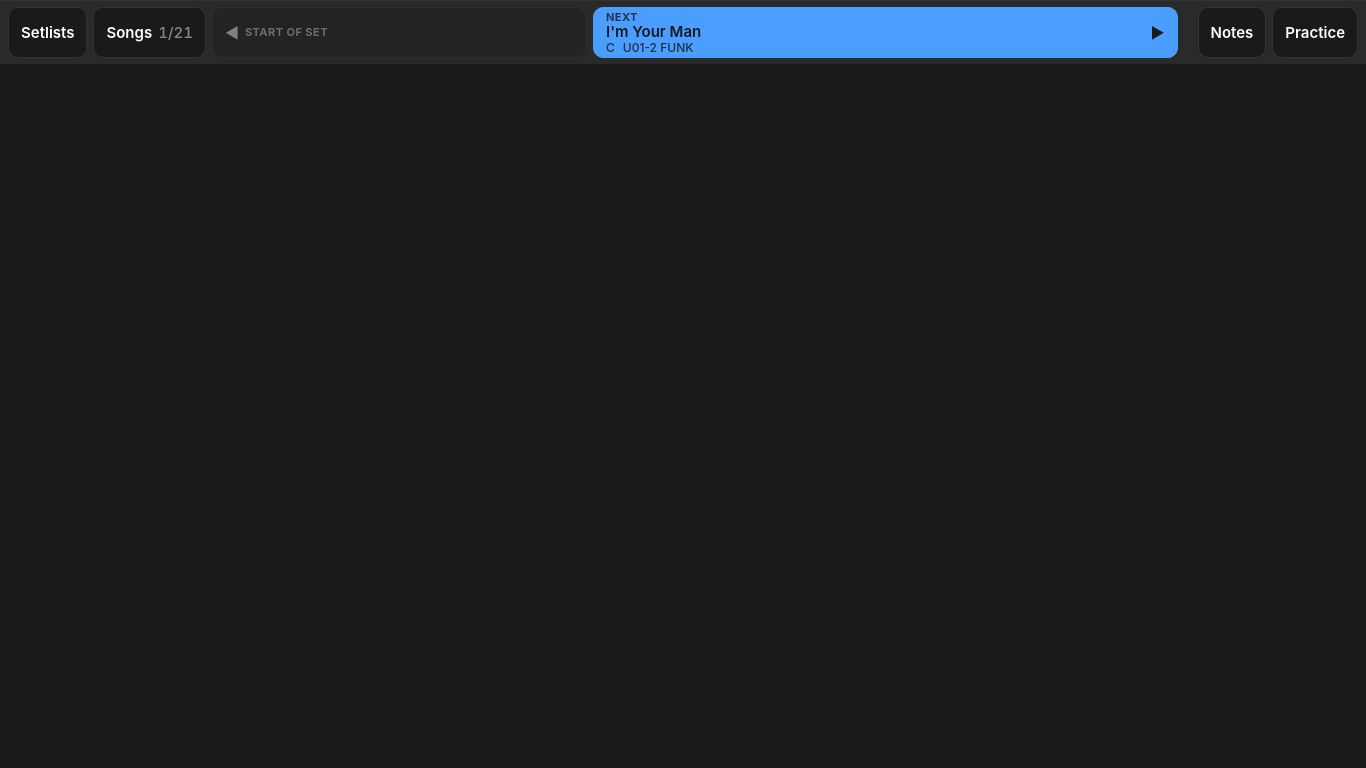
Test case: the Songs sheet › on Stage says a tap goes there and offers no editing
The image size is (1366, 768).
Click the button with aria-label "Songs, ": click(150, 32) [94,7,206,58]
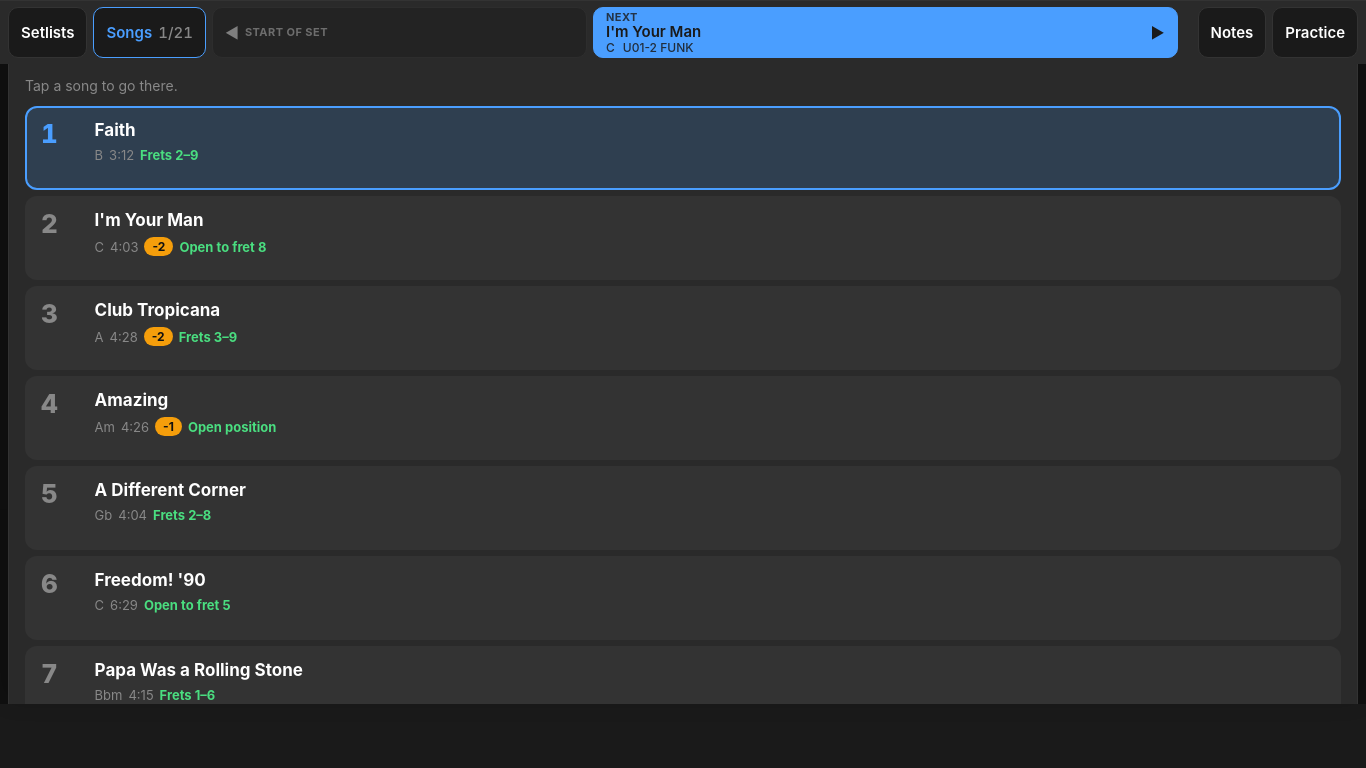
Check: the text "Tap a song to go there." is shown, box [25,77,178,94]
